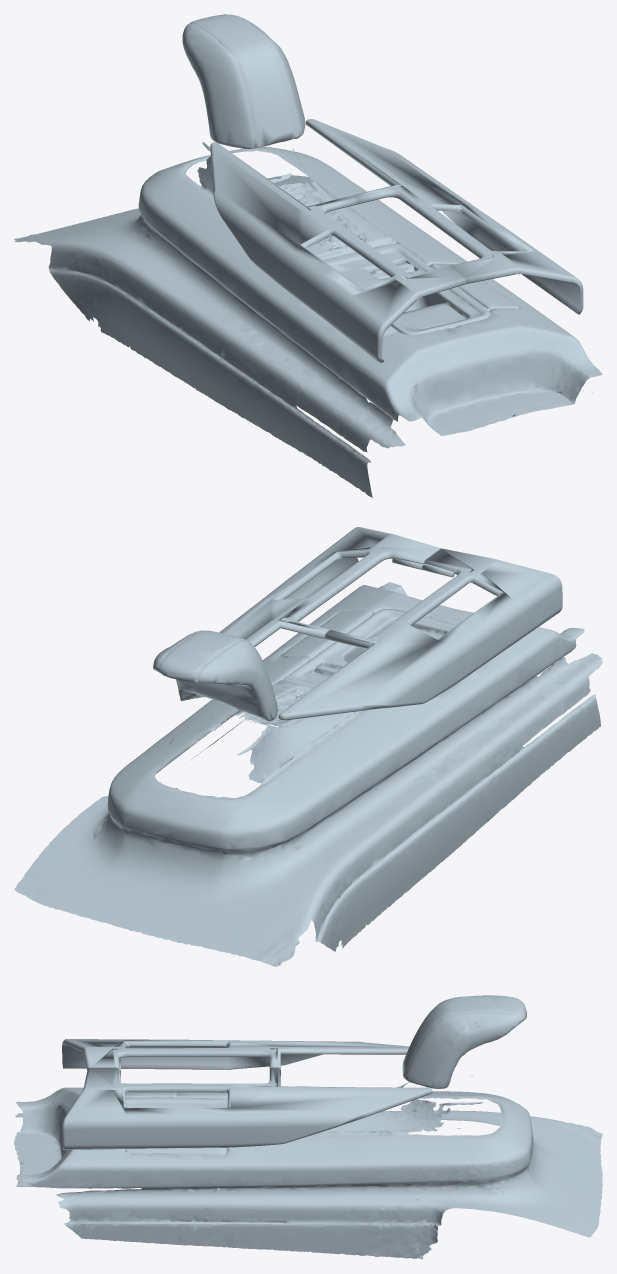
The model's file is prius_console_web.glb.
The picture shows the model from 3 angles, top to bottom: view 1: azimuth 30°, elevation 25°; view 2: azimuth 150°, elevation 25°; view 3: azimuth 270°, elevation 25°; orthographic projection. The views are drawn at different scales.
Parts seen in each view (by area): view 1: MainModel, Plane001; view 2: MainModel, Plane001; view 3: MainModel, Plane001.
Boxes of the visible parts, x1,y1,x2,y2 form: MainModel: (14, 14, 602, 497); Plane001: (210, 119, 583, 362); MainModel: (14, 582, 602, 966); Plane001: (219, 527, 562, 720); MainModel: (14, 995, 602, 1259); Plane001: (62, 1039, 432, 1149).
Bounding box in the file's own units: 2.24 × 2.09 × 5.
